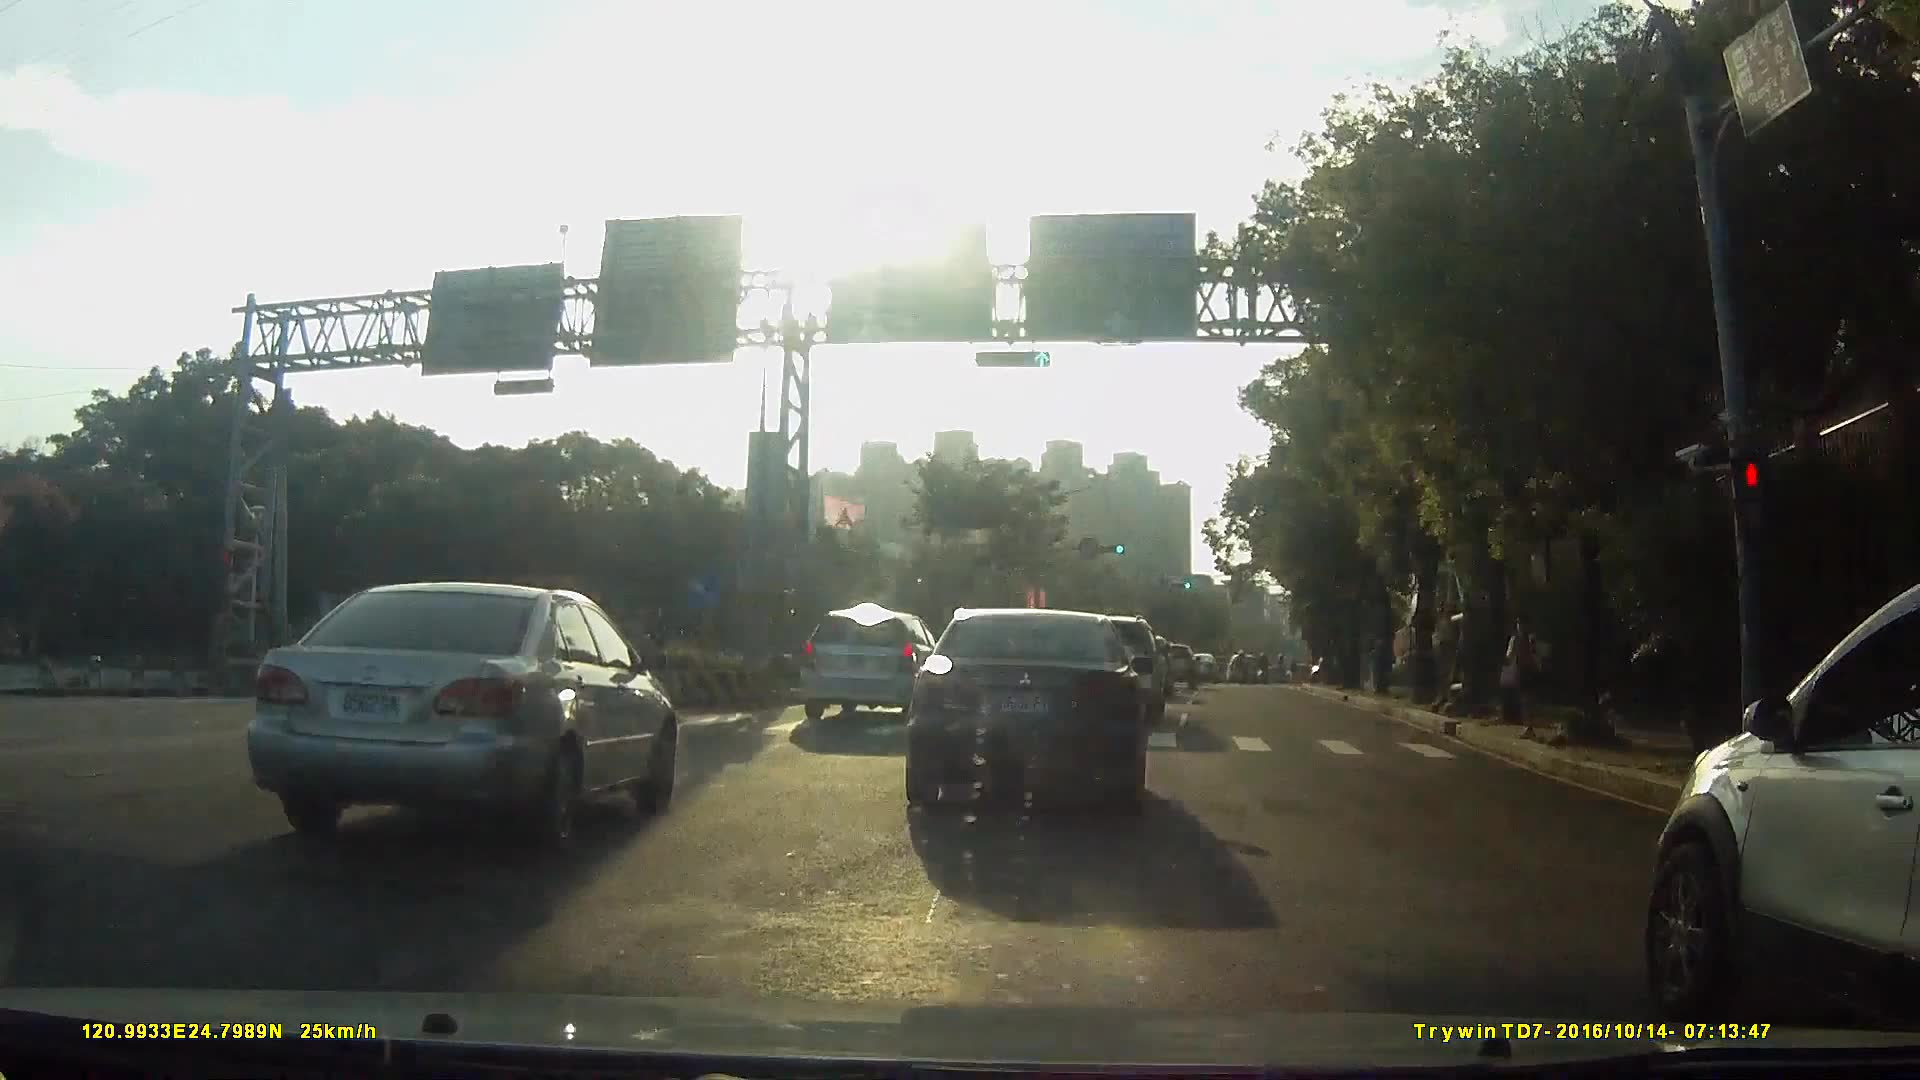pedestrian: (1496, 610, 1556, 737)
vehicle: (1592, 548, 1920, 1028), (223, 575, 685, 850), (885, 604, 1157, 816), (789, 603, 937, 719), (1142, 640, 1191, 688), (1177, 651, 1210, 679)
